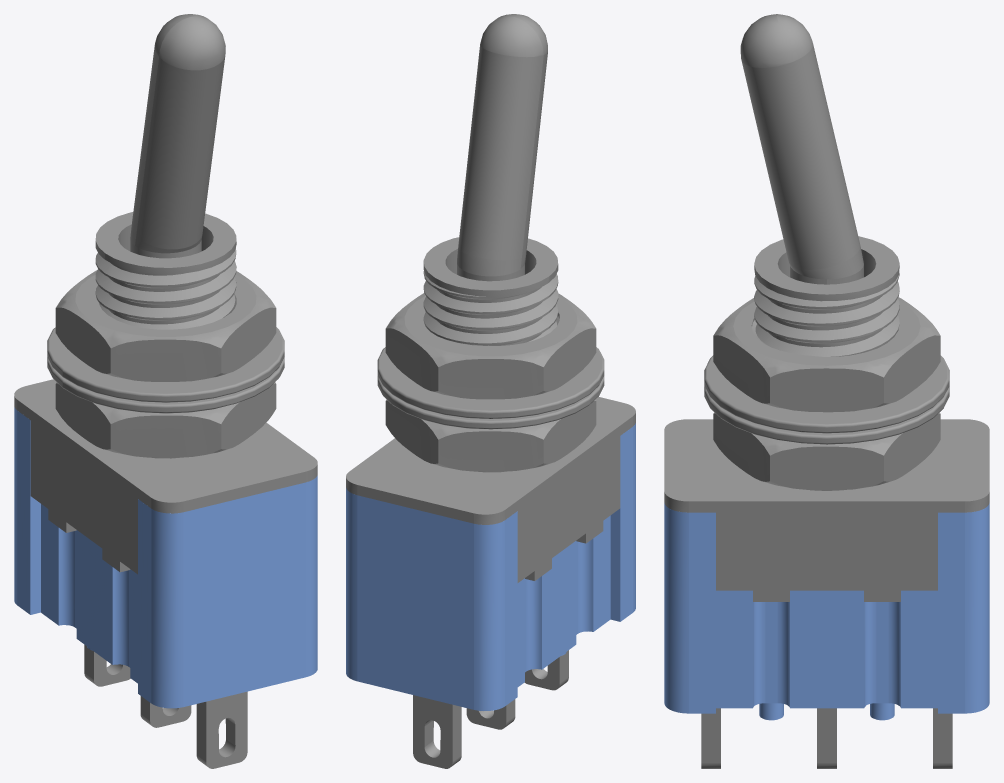
The model's file is ada-3221.glb.
3 views of the same model, side by side, from view 1: azimuth 30°, elevation 25°; view 2: azimuth 150°, elevation 25°; view 3: azimuth 270°, elevation 25° (orthographic). The views are drawn at different scales.
Visible parts, largest first — view 1: 0.3333333333333333_0.3333333333333333_0.3333333333333333_0, 0.25_0.5_1_0; view 2: 0.3333333333333333_0.3333333333333333_0.3333333333333333_0, 0.25_0.5_1_0; view 3: 0.3333333333333333_0.3333333333333333_0.3333333333333333_0, 0.25_0.5_1_0.
Part boxes in pixels (bbox=[...]): 0.3333333333333333_0.3333333333333333_0.3333333333333333_0: bbox=[14, 14, 317, 768]; 0.25_0.5_1_0: bbox=[14, 407, 317, 708]; 0.3333333333333333_0.3333333333333333_0.3333333333333333_0: bbox=[346, 14, 635, 768]; 0.25_0.5_1_0: bbox=[346, 423, 635, 710]; 0.3333333333333333_0.3333333333333333_0.3333333333333333_0: bbox=[664, 14, 989, 768]; 0.25_0.5_1_0: bbox=[664, 503, 989, 720].
Size of the model in its own units: 0.9999 by 3.33 by 1.32.
